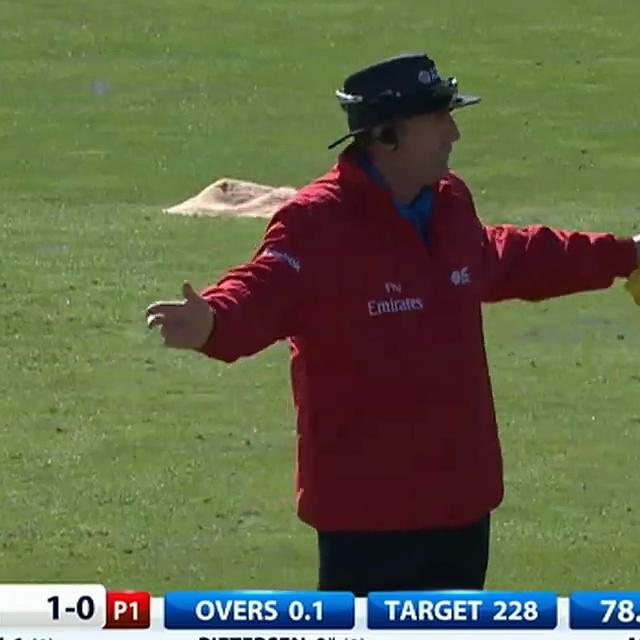umpire: (132, 20, 640, 593)
